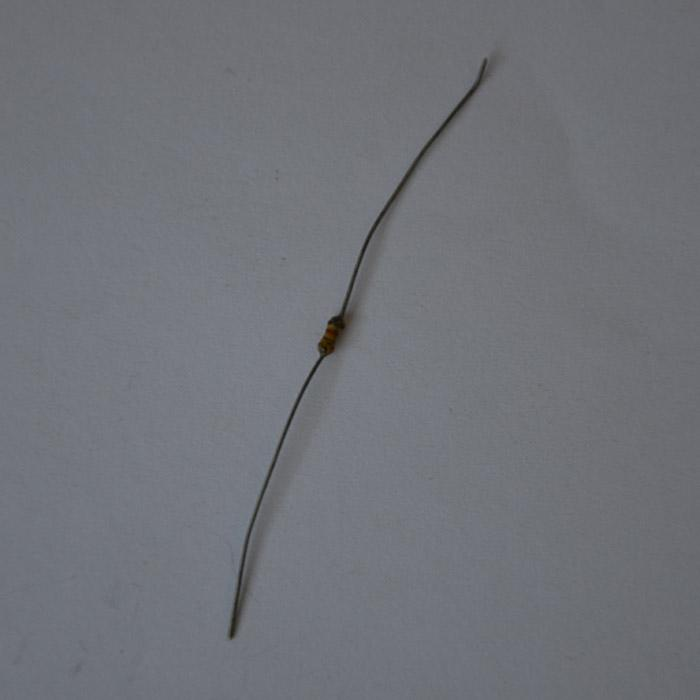resistor: (314, 312, 348, 358)
